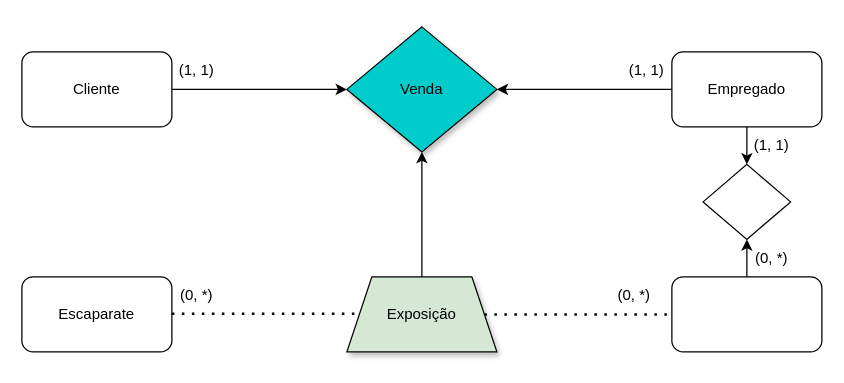
This 844x383 diagram has some shape labels left out. The centre of each missing label's shape, as x and y in pixels:
Peça: the point at 746,314
Reg. def: the point at 746,201
